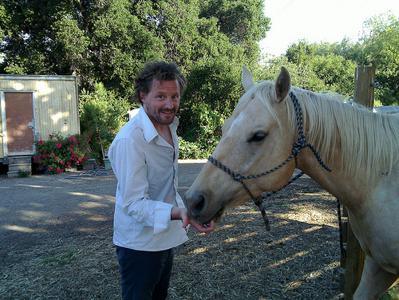person: (105, 59, 216, 298)
